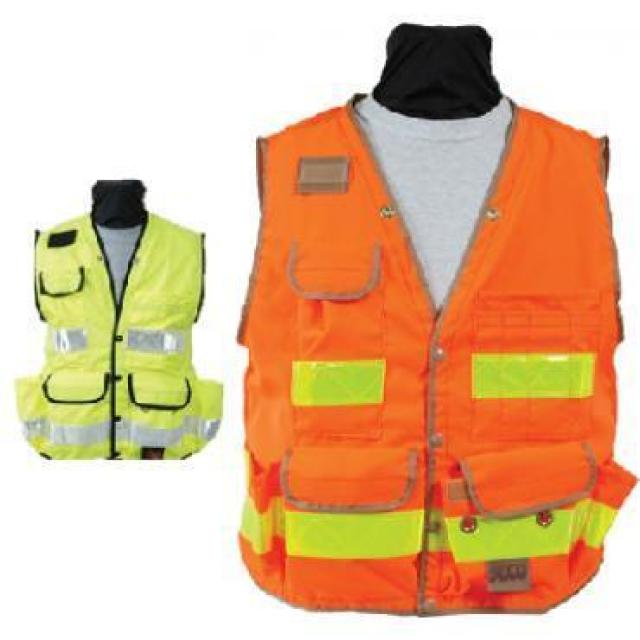Vest: (237, 95, 637, 616), (19, 213, 223, 469)
